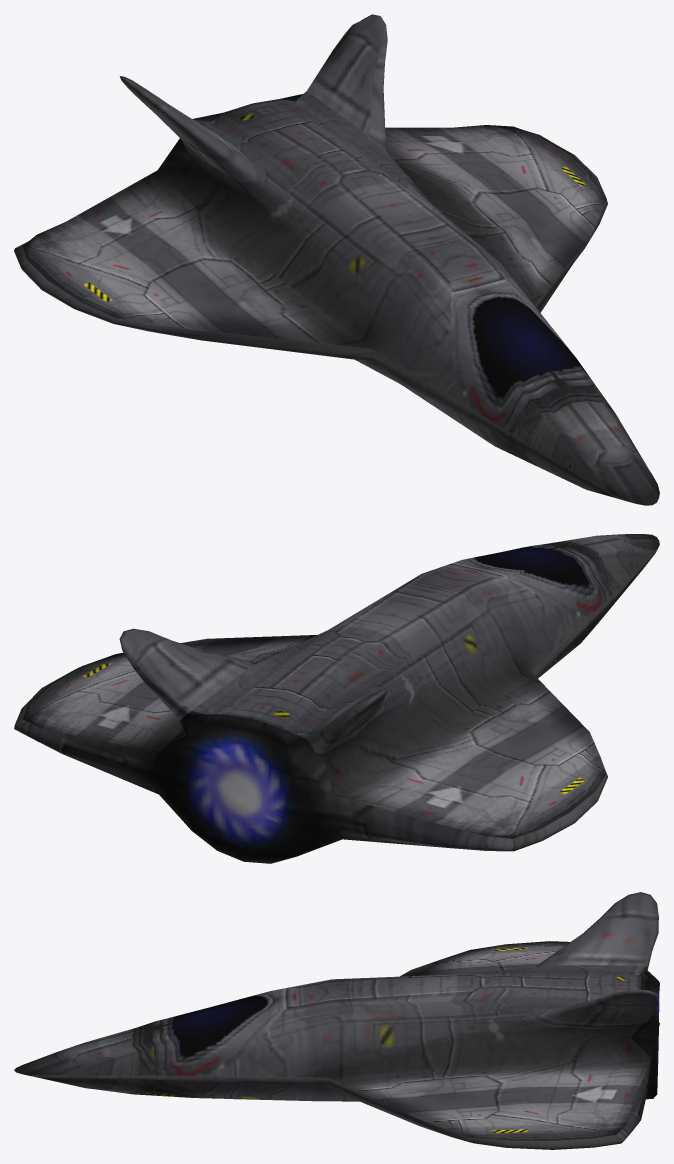
Rendered from sartre.obj.
3 views of the same model, one above another, from view 1: azimuth 30°, elevation 25°; view 2: azimuth 150°, elevation 25°; view 3: azimuth 270°, elevation 25° (orthographic). The views are drawn at different scales.
Size of the model in its own units: 10.85 by 3.85 by 14.52.
Materials: 1 (1 with a texture image).
